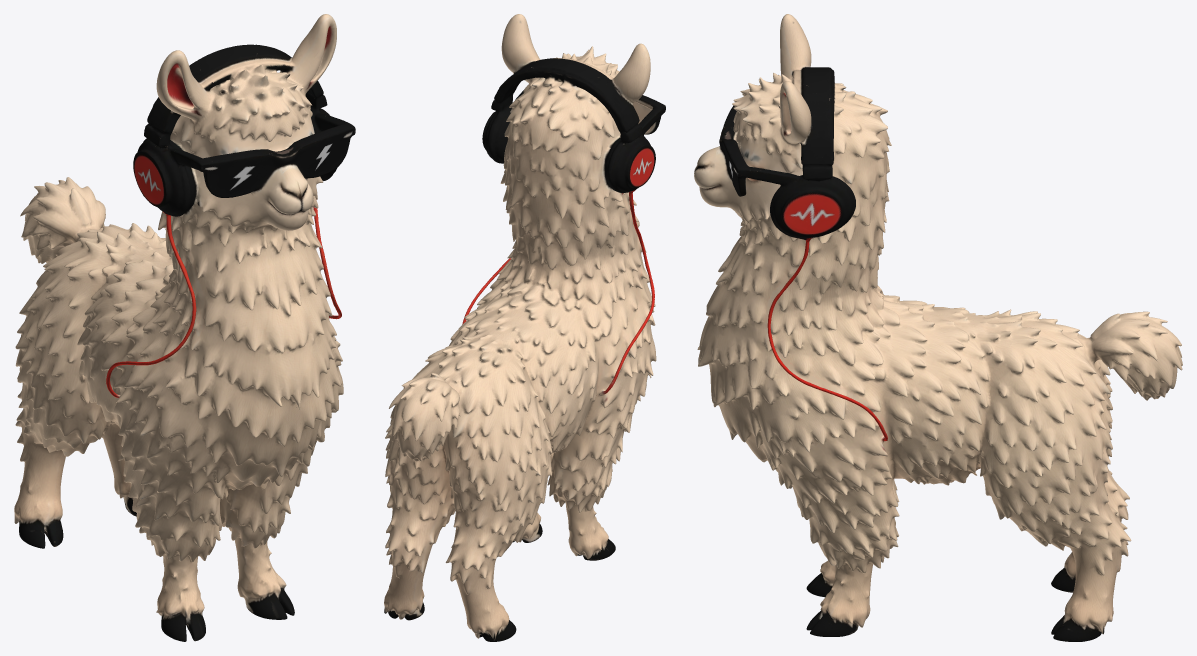
Rendered from lama2.glb.
3 views of the same model, side by side, from view 1: azimuth 30°, elevation 25°; view 2: azimuth 150°, elevation 25°; view 3: azimuth 270°, elevation 25° (orthographic). The views are drawn at different scales.
Size of the model in its own units: 0.6573 by 1.9 by 1.5.
1 material, 1 textured.
